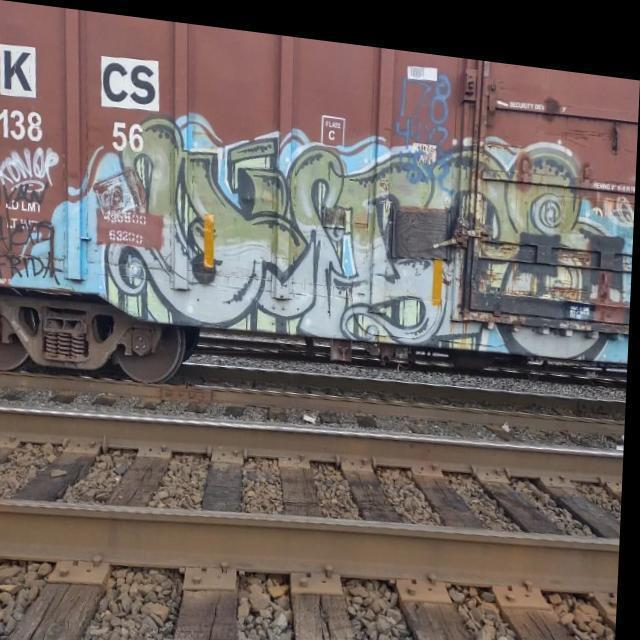nonspitting: (7, 113, 640, 361), (394, 73, 451, 184), (0, 218, 59, 281), (0, 147, 62, 204)
